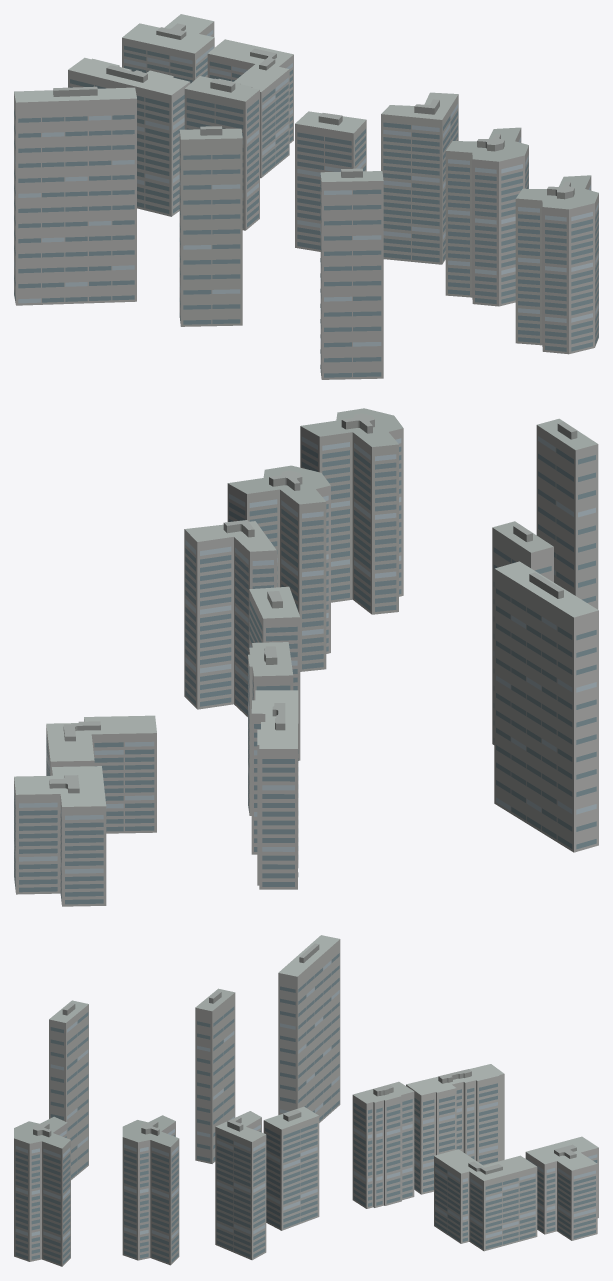
Rendered from apt-a10026604.glb.
3 views of the same model, one above another, from view 1: azimuth 30°, elevation 25°; view 2: azimuth 150°, elevation 25°; view 3: azimuth 270°, elevation 25° (orthographic). The views are drawn at different scales.
Parts seen in each view (by area): view 1: apt-a10026604; view 2: apt-a10026604; view 3: apt-a10026604.
Part boxes in pixels (<box>): apt-a10026604: <box>14,14,598,379</box>; apt-a10026604: <box>14,408,598,906</box>; apt-a10026604: <box>14,935,598,1266</box>.
Size of the model in its own units: 164 by 79 by 245.
